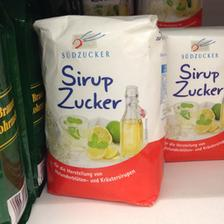Zucker: (31, 12, 166, 206), (162, 26, 222, 162)
